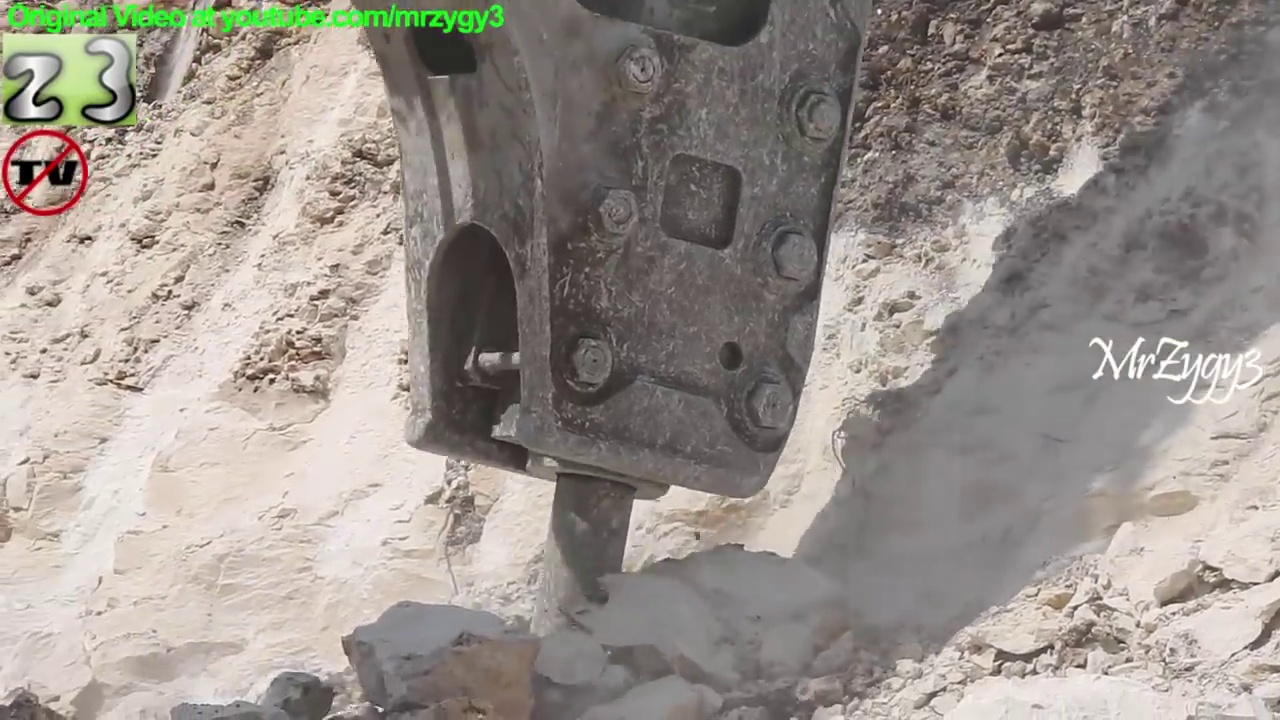excavator: (337, 1, 891, 706)
